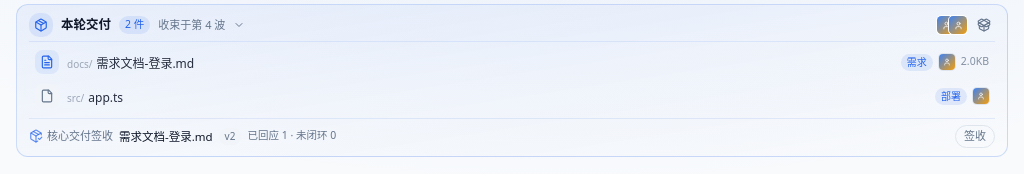
CloseoutCard 签收区（AF-5） › development：锚点 + vN + 闭环统计 + 签收回填与取消
Expected: the element showing "核心交付签收 需求文档-登录.md v2 已回应 1 · 未闭环 0 签收" is shown, [29,118,995,148]
Expected: the text "v2" is shown, [219,128,241,145]
Click the button "签收" at (975, 136), box [955,125,995,148]
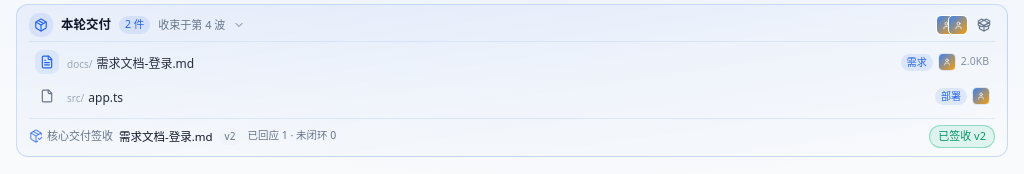
Expected: the button "已签收 v2" is shown
取消签收（重开用例记忆，避免跨断言残留）
Click the button "已签收 v2" at (962, 136), box [929,125,995,148]
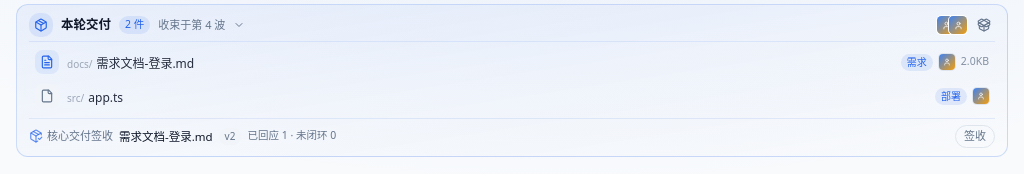
Expected: the button "签收" is shown, [955,125,995,148]
